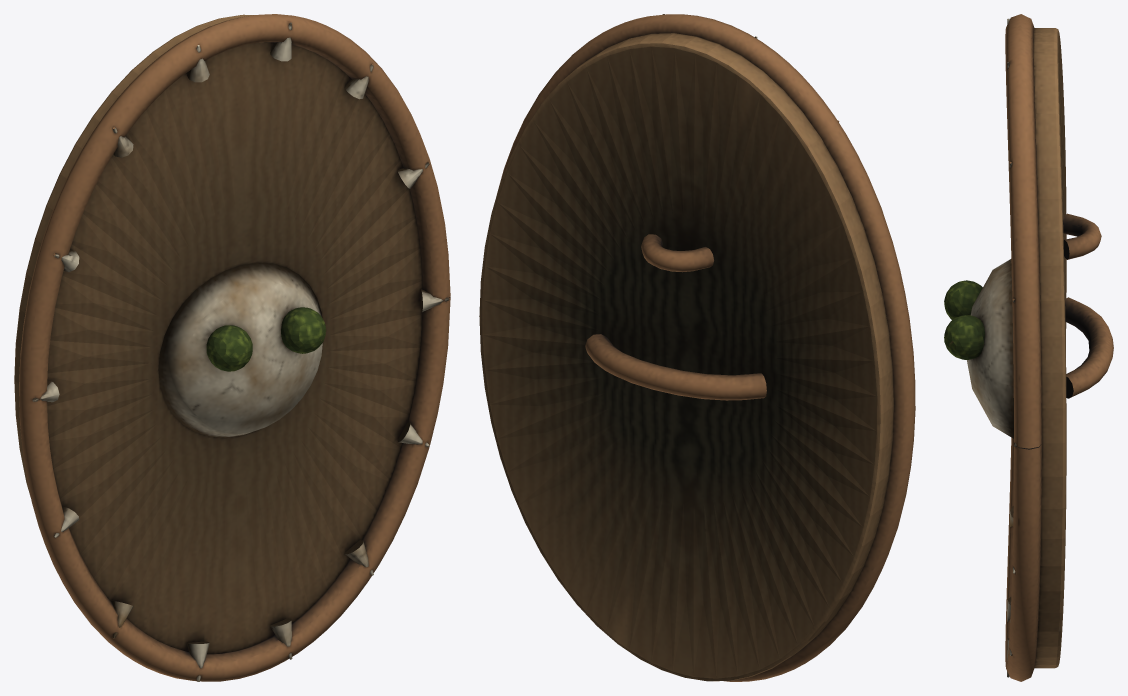
Rendered from arma_escudo_brejo.glb.
3 renders of one model, left to right at view 1: azimuth 30°, elevation 25°; view 2: azimuth 150°, elevation 25°; view 3: azimuth 270°, elevation 25°, orthographic. The views are drawn at different scales.
Visible parts, largest first — view 1: arma_escudo_brejo; view 2: arma_escudo_brejo; view 3: arma_escudo_brejo.
Part boxes in pixels (bbox=[...]): arma_escudo_brejo: bbox=[14, 14, 450, 681]; arma_escudo_brejo: bbox=[479, 14, 915, 681]; arma_escudo_brejo: bbox=[944, 14, 1113, 681].
Size of the model in its own units: 0.4677 by 0.687 by 0.166.
1 material, 1 textured.
